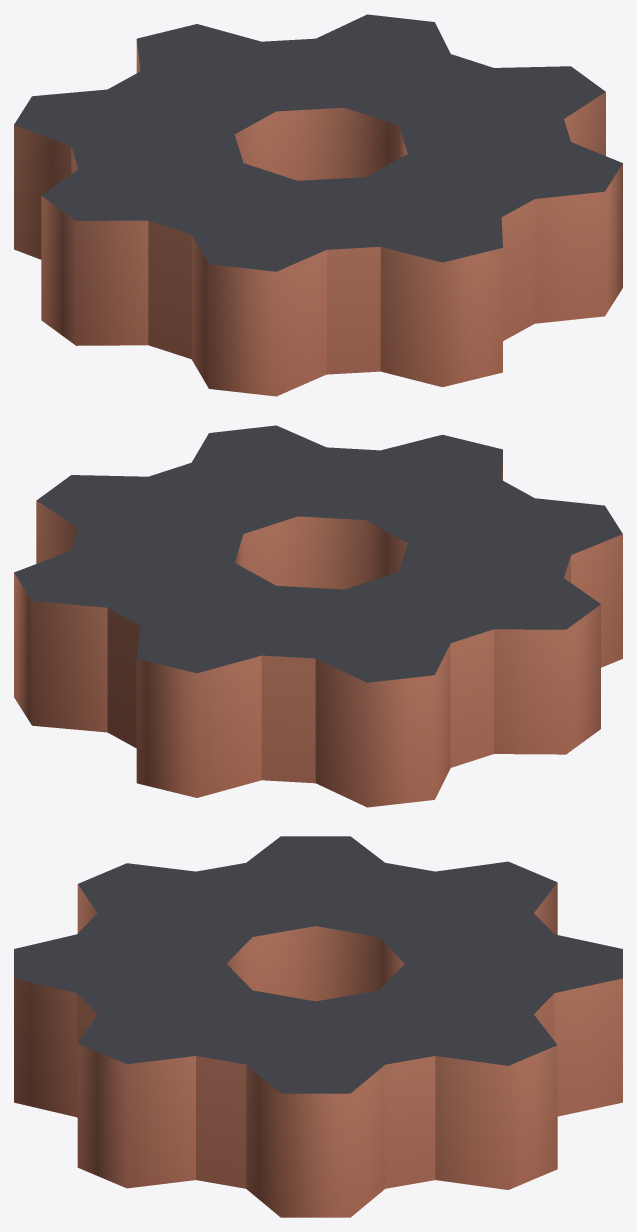
File: cog-d.obj
3 views of the same model, one above another, from view 1: azimuth 30°, elevation 25°; view 2: azimuth 150°, elevation 25°; view 3: azimuth 270°, elevation 25° (orthographic).
Visible parts, largest first — view 1: cog-d; view 2: cog-d; view 3: cog-d.
Boxes of the visible parts, x1,y1,x2,y2 form: cog-d: [14, 14, 622, 396]; cog-d: [14, 425, 622, 807]; cog-d: [14, 836, 622, 1217].
Size of the model in its own units: 1 by 0.225 by 1.
